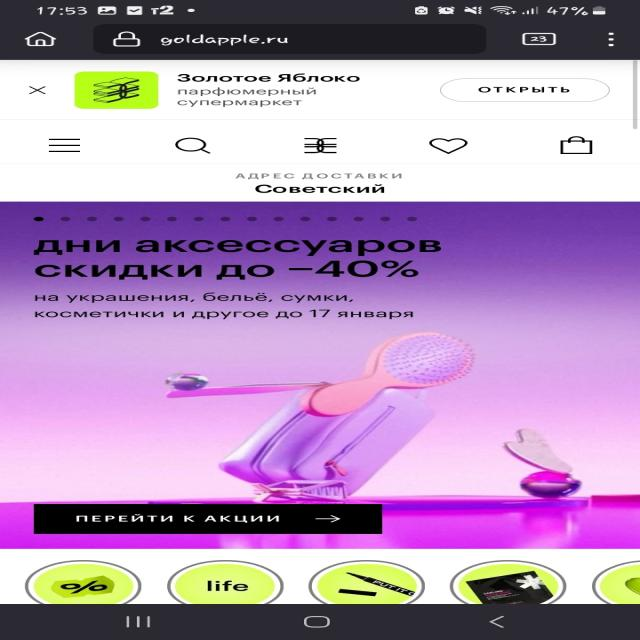button: (434, 78, 614, 102), (24, 85, 54, 97)
site: (0, 60, 640, 118)
